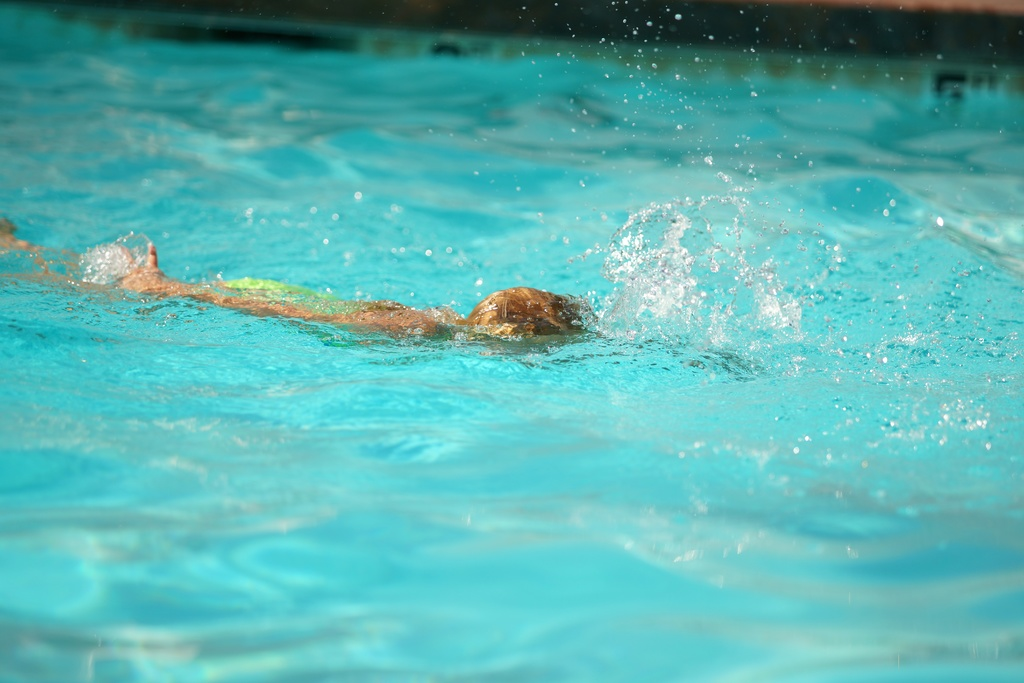Person: (0, 215, 603, 351)
